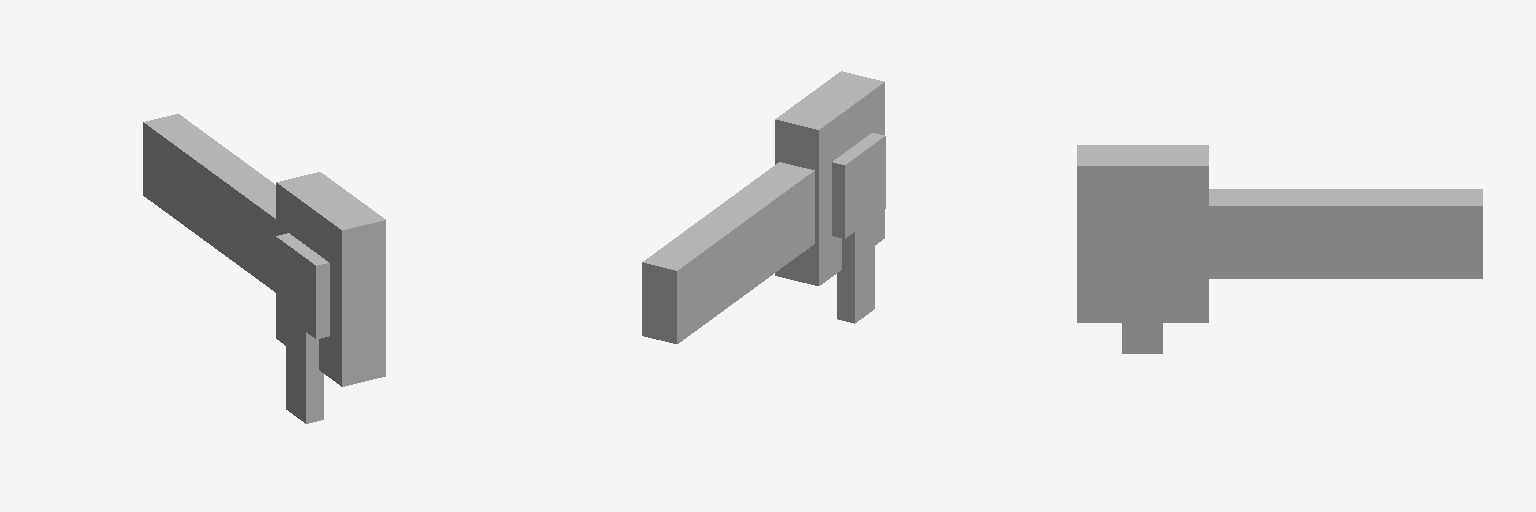
Rendered from left_p_rod.obj.
3 renders of one model, left to right at view 1: azimuth 30°, elevation 25°; view 2: azimuth 150°, elevation 25°; view 3: azimuth 270°, elevation 25°, orthographic.
Parts seen in each view (by area): view 1: Rod; view 2: Rod; view 3: Rod.
Part boxes in pixels (x1,y1,x2,y2): Rod: (143, 114, 385, 423); Rod: (642, 71, 885, 343); Rod: (1077, 145, 1482, 353).
Size of the model in its own units: 0.2031 by 0.7031 by 1.25.